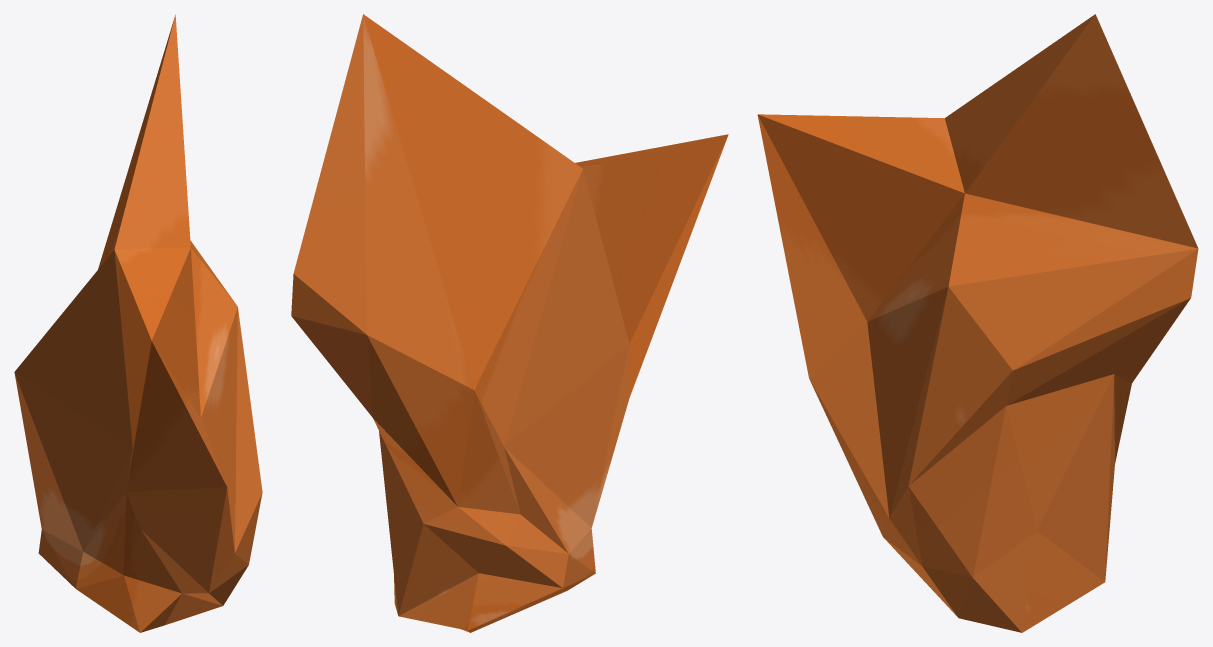
Rendered from Cristal_2.fbx.
3 views of the same model, side by side, from view 1: azimuth 30°, elevation 25°; view 2: azimuth 150°, elevation 25°; view 3: azimuth 270°, elevation 25° (orthographic). The views are drawn at different scales.
Parts seen in each view (by area): view 1: Cristal2; view 2: Cristal2; view 3: Cristal2.
Part boxes in pixels (box(x1,y1,x2,y2)): Cristal2: box(14, 14, 262, 632); Cristal2: box(291, 14, 728, 632); Cristal2: box(757, 14, 1198, 632).
Bounding box in the file's own units: 226 × 608 × 381.
